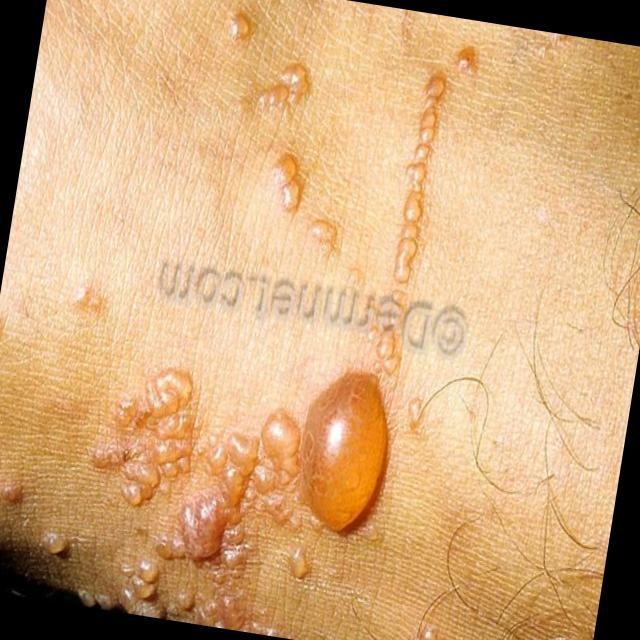Eczema: (14, 18, 489, 616)
